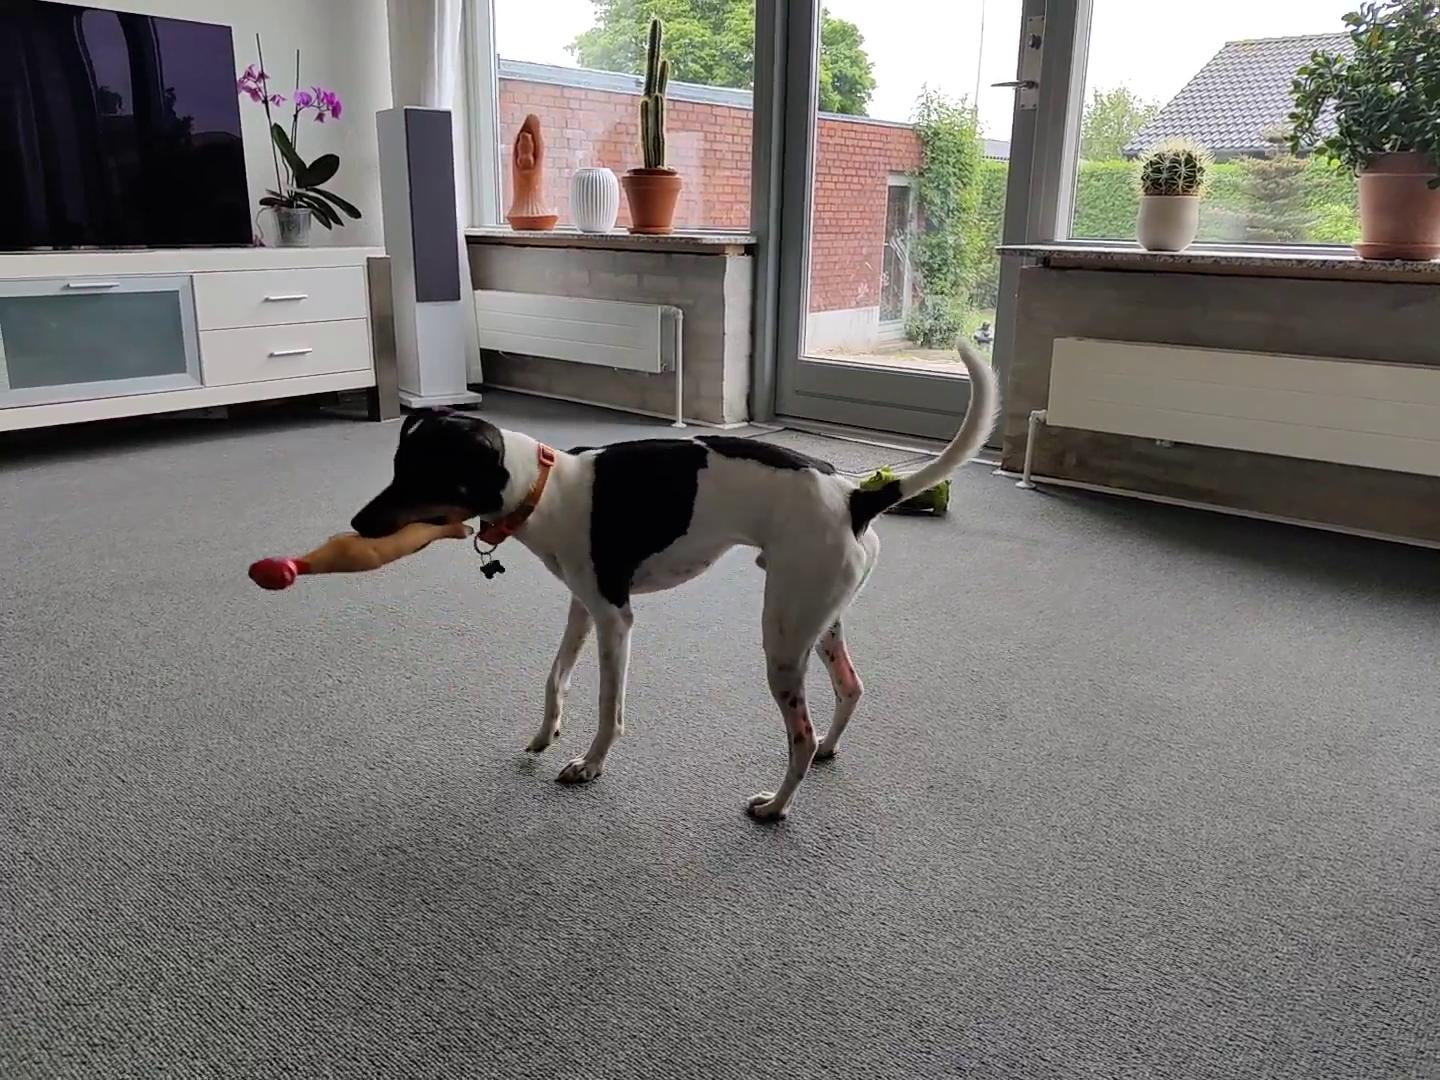Dog: (334, 319, 1014, 830)
